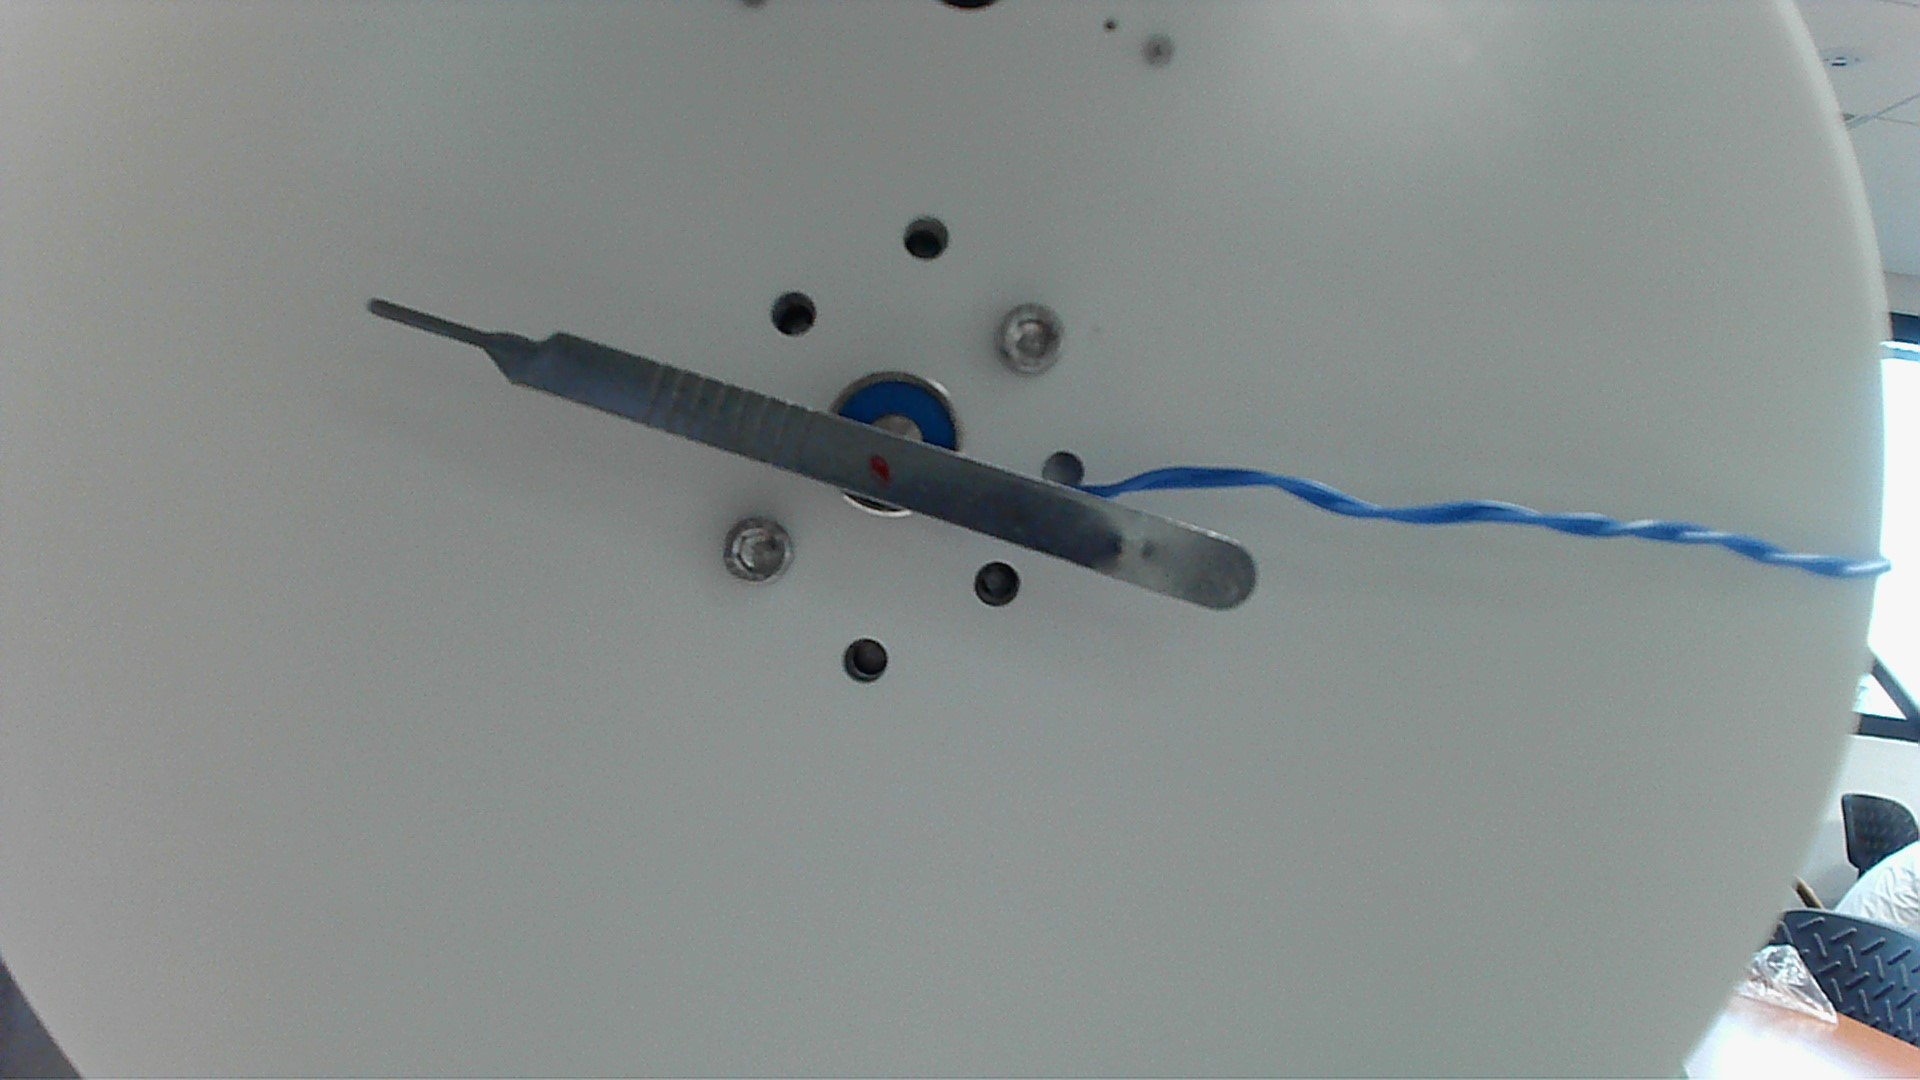Stain: (865, 448, 894, 488)
